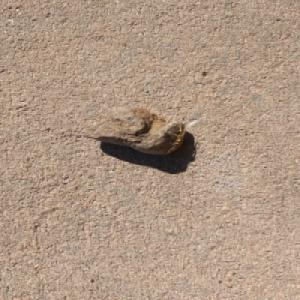Rock: (81, 105, 187, 155)
